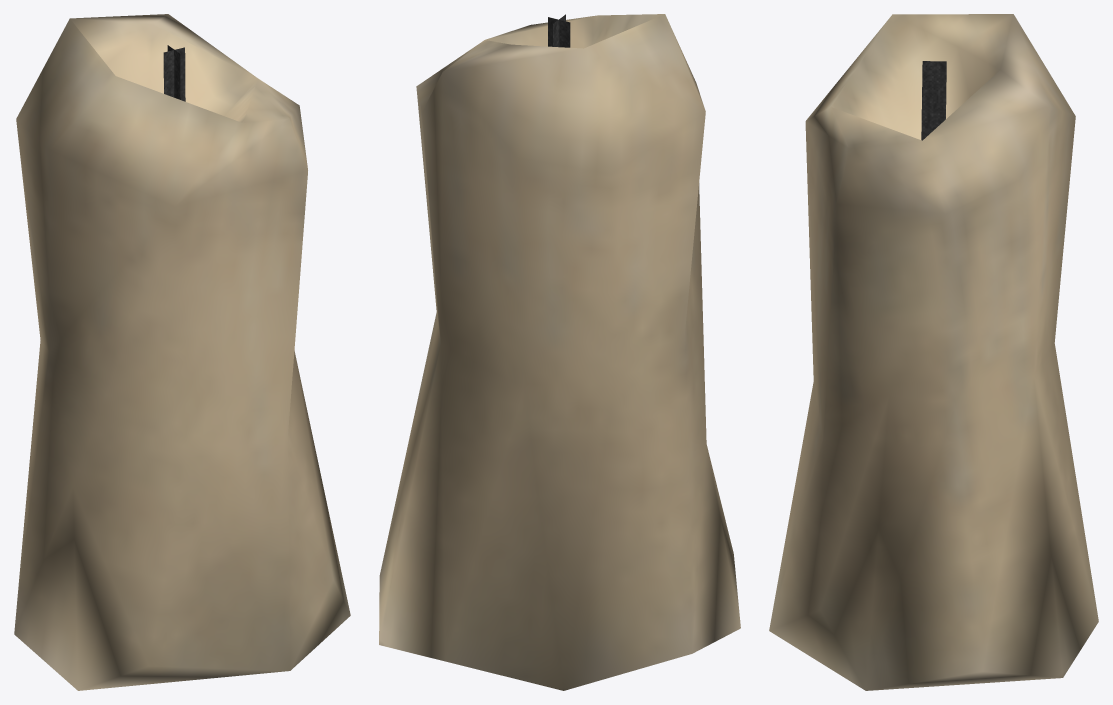
Rendered from SM_Candle_04.gltf.
The picture shows the model from 3 angles, left to right: view 1: azimuth 30°, elevation 25°; view 2: azimuth 150°, elevation 25°; view 3: azimuth 270°, elevation 25°; orthographic projection. The views are drawn at different scales.
Parts seen in each view (by area): view 1: SM_Candle_04_LOD0; view 2: SM_Candle_04_LOD0; view 3: SM_Candle_04_LOD0.
Part boxes in pixels (x1,y1,x2,y2): SM_Candle_04_LOD0: (14, 14, 350, 690); SM_Candle_04_LOD0: (379, 14, 740, 690); SM_Candle_04_LOD0: (769, 14, 1098, 690).
Size of what is drawn, in the model's own units: 0.1123 by 0.2197 by 0.1125.
Materials: 1 (1 with a texture image).
